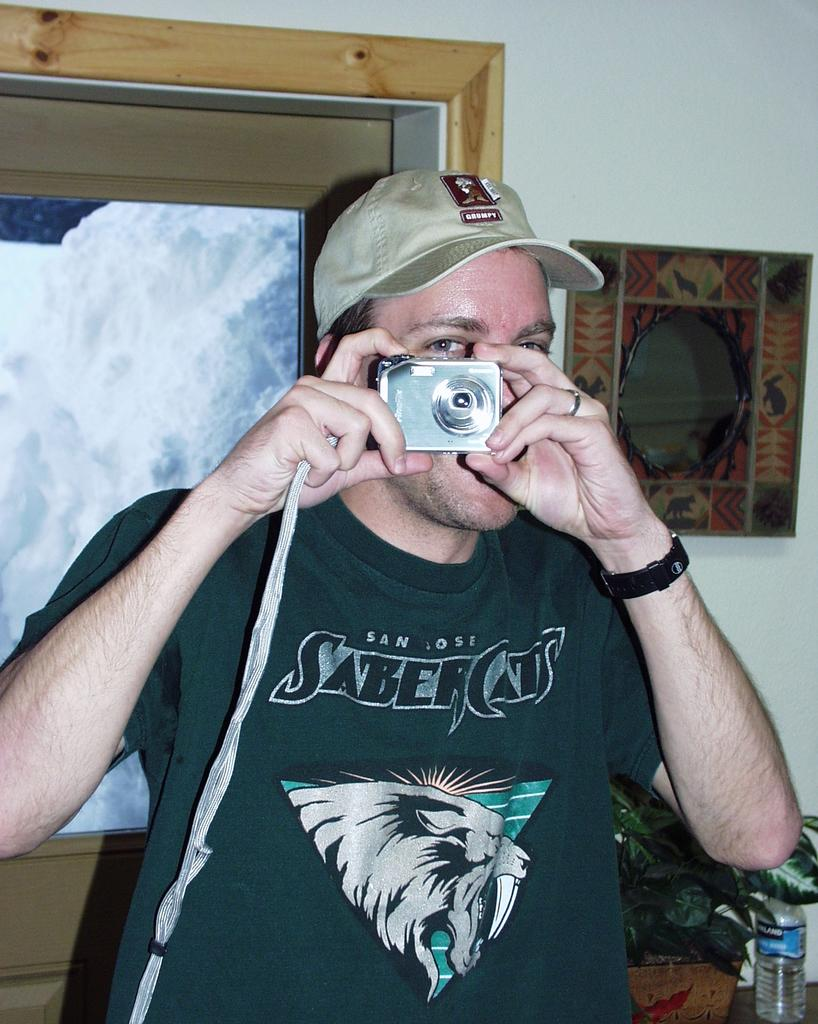Hat: (312, 168, 606, 341)
